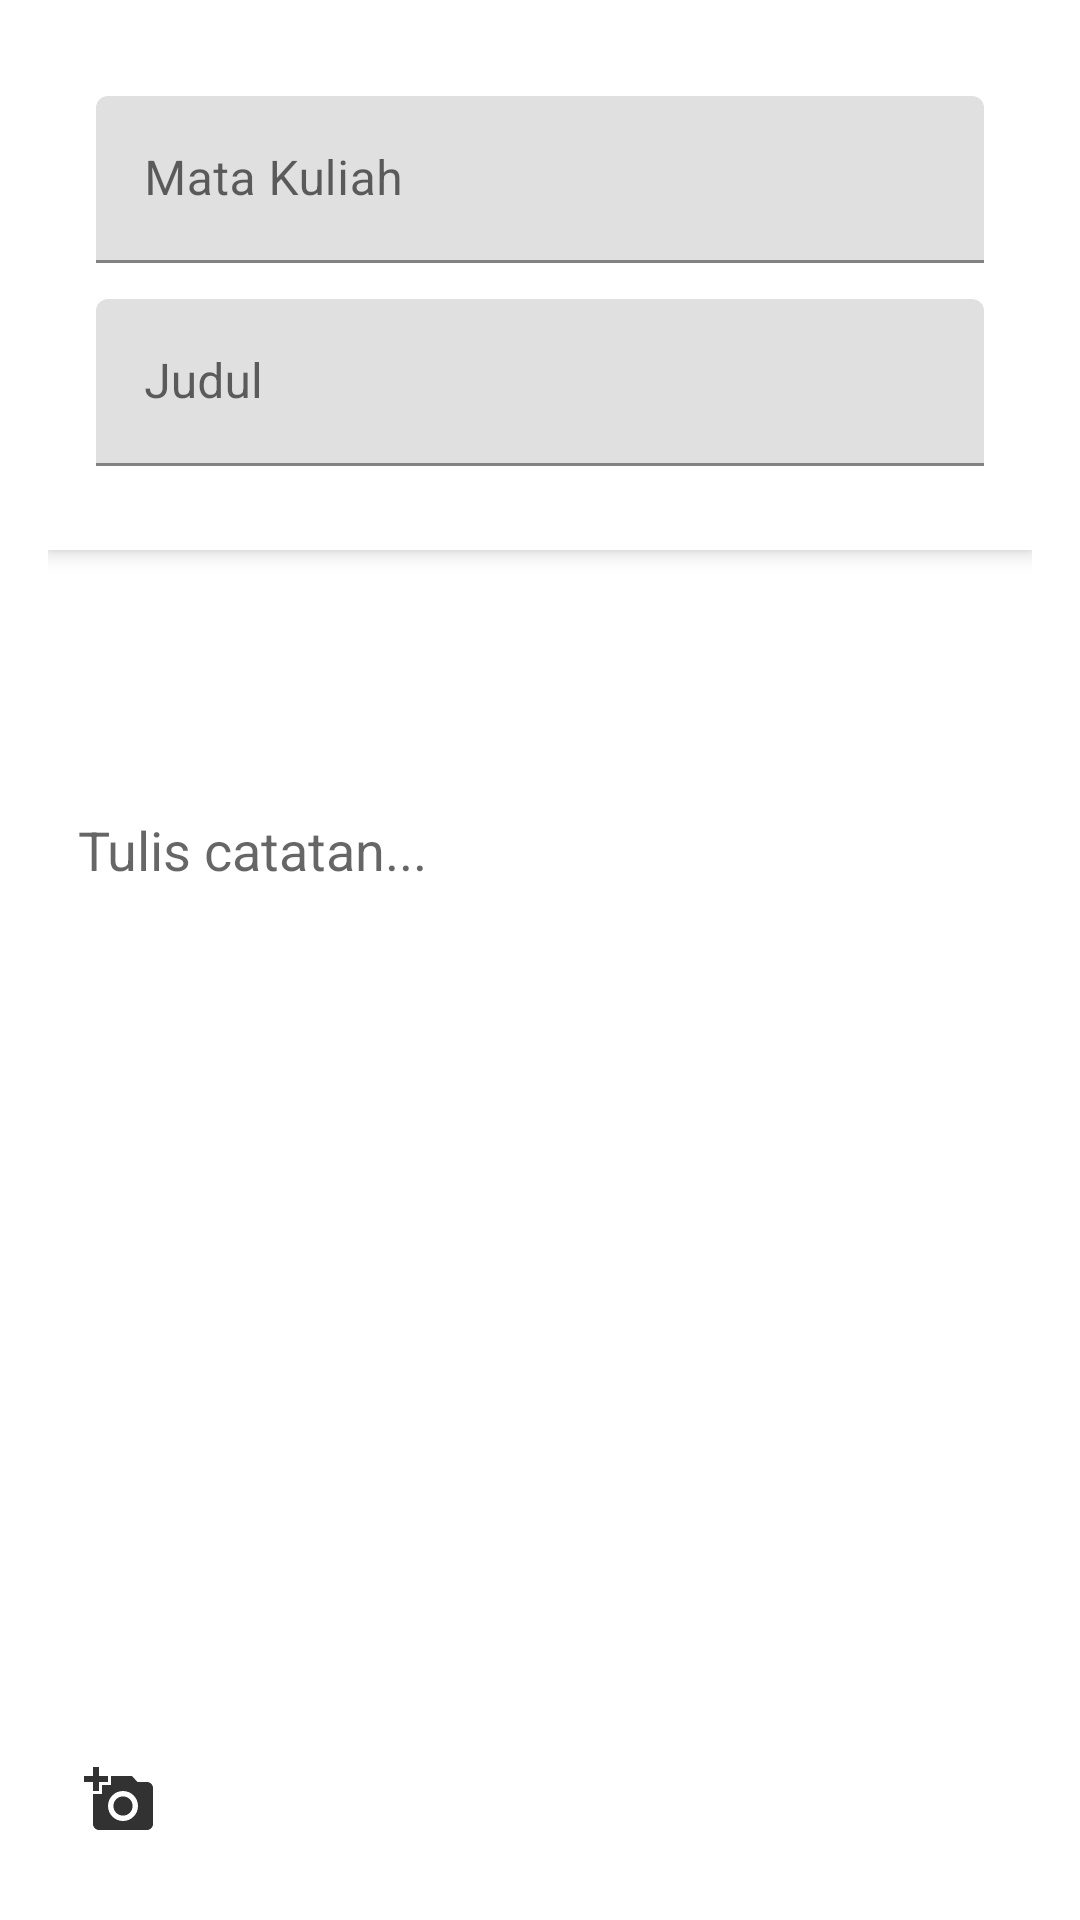

Screen size 1080px×1920px. Icon name, then its box in pixels as (x1,y1,x2,y2):
Buka Kamera: (84,1767,153,1830)
